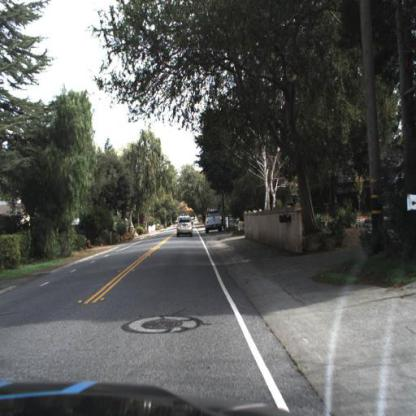car: (204, 205, 225, 233), (176, 211, 195, 235)
